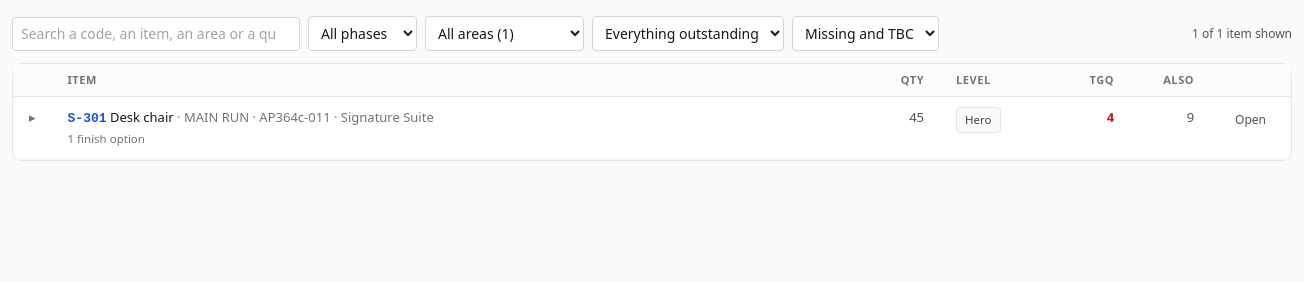
Test: InfillTable › never apportions a quantity to a finish option
This screenshot has width=1304, height=282.
Click the text "Desk chair": click(142, 117) [110,108,174,126]
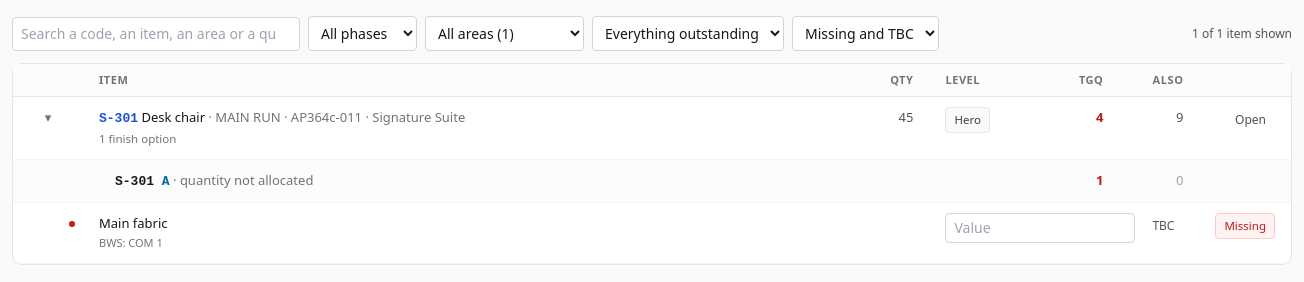
Now the text "· quantity not allocated" is shown, box [170,171,313,189]
